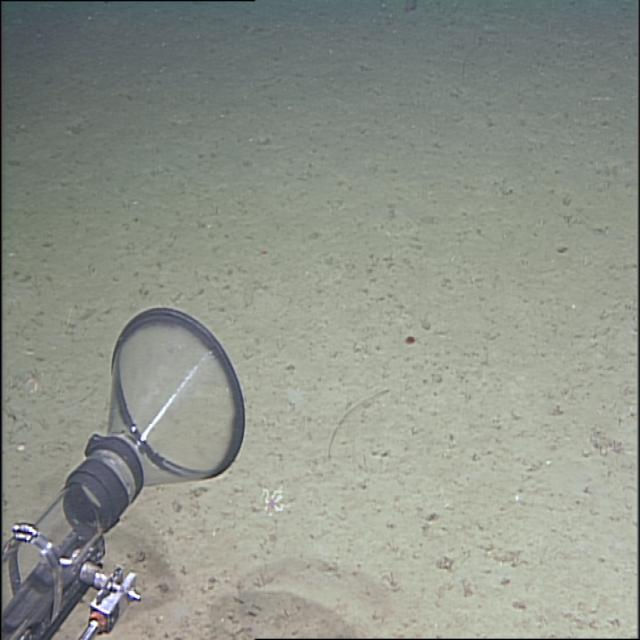Brittle Star: (258, 478, 286, 518)
Not Brittle Star: (401, 331, 416, 346)
